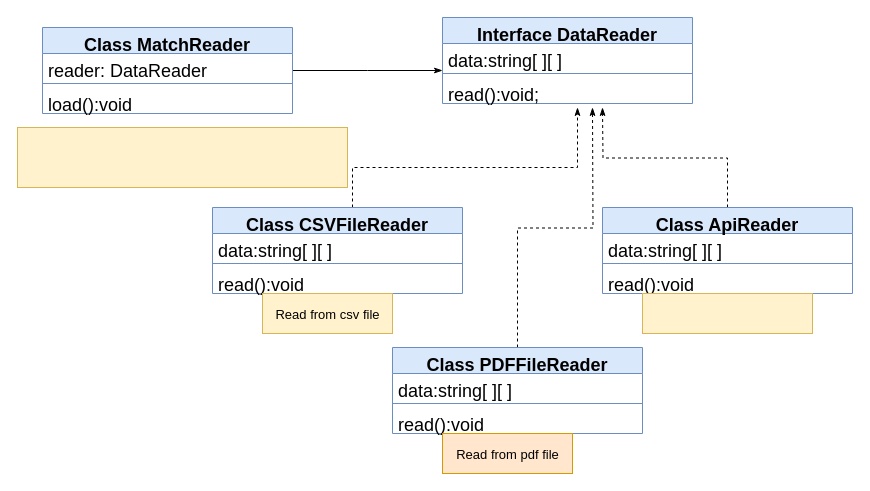
Image size: 870x491. Some labels were removed from this diagram. Here are the shapes that lost their labels. From the top down, the centre of each, then its label:
At (182,157): "use reader to read file and convert data according to the context of the data".
At (727,313): "Read from remote server".
